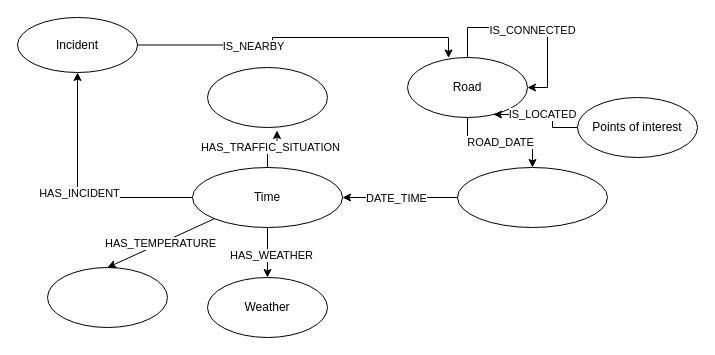
Image size: 715x355. Some labels were removed from this diagram. Each missing label, with the box of its shape:
Date: (456, 166, 608, 228)
Temperature: (46, 266, 168, 328)
Traffic Situation: (206, 66, 328, 128)
